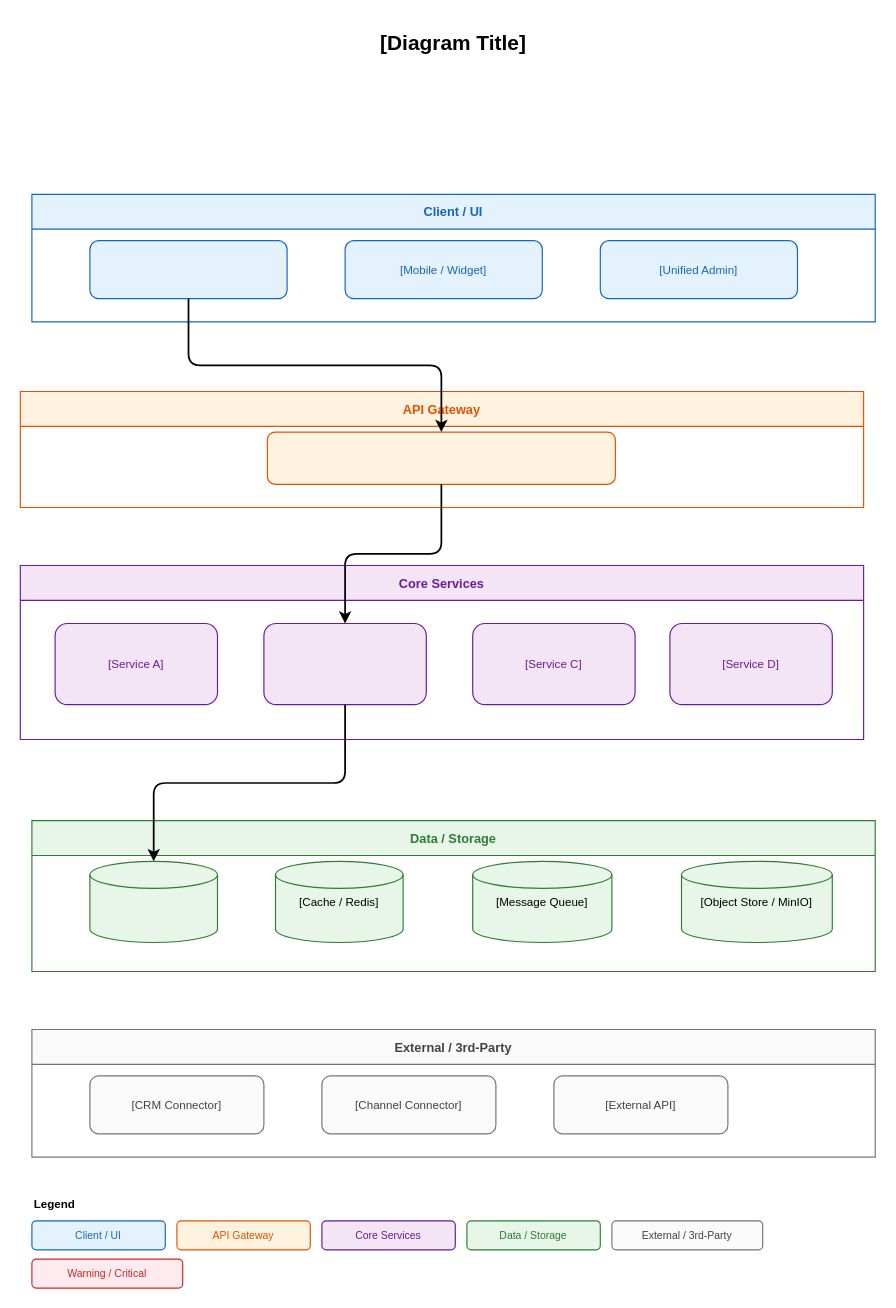
The diagram is 896 pixels wide and 1308 high, and some of its shapes have lost their labels. Each missing label, with the centre of its shape:
"[API Gateway / APISIX] Auth · Rate Limiting · Routing" belongs at pixel 440 457.
"[Database]" belongs at pixel 153 901.
"[Service B]" belongs at pixel 344 663.
"[Web App / Agent Desk]" belongs at pixel 188 269.
